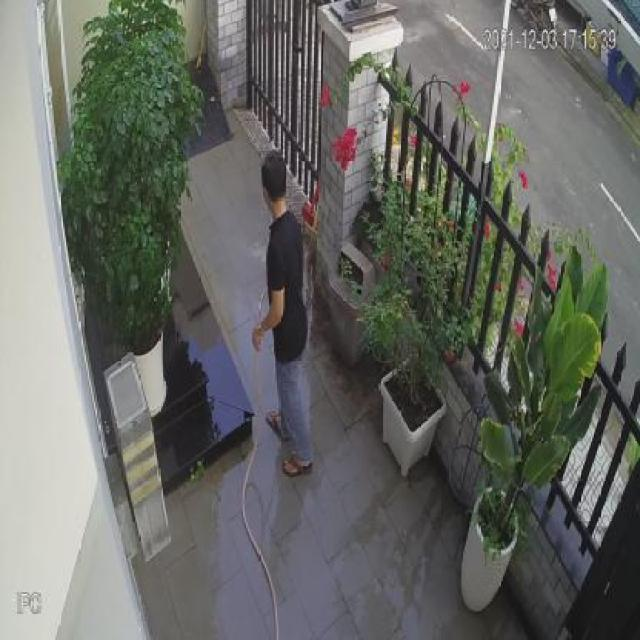obstacle: (251, 149, 315, 480)
